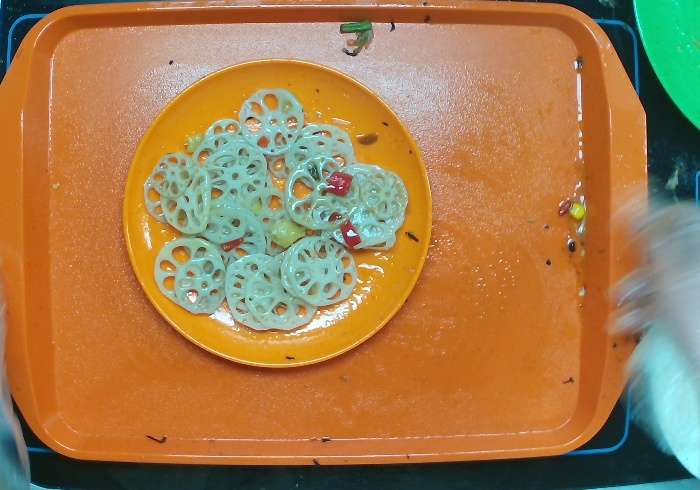HZYJPL-Ju_Huang_Yuan_Pan: (123, 55, 433, 372)
